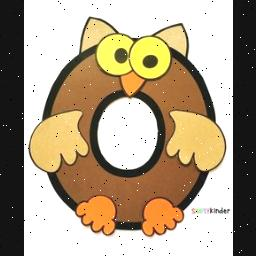o: (28, 12, 232, 256)
